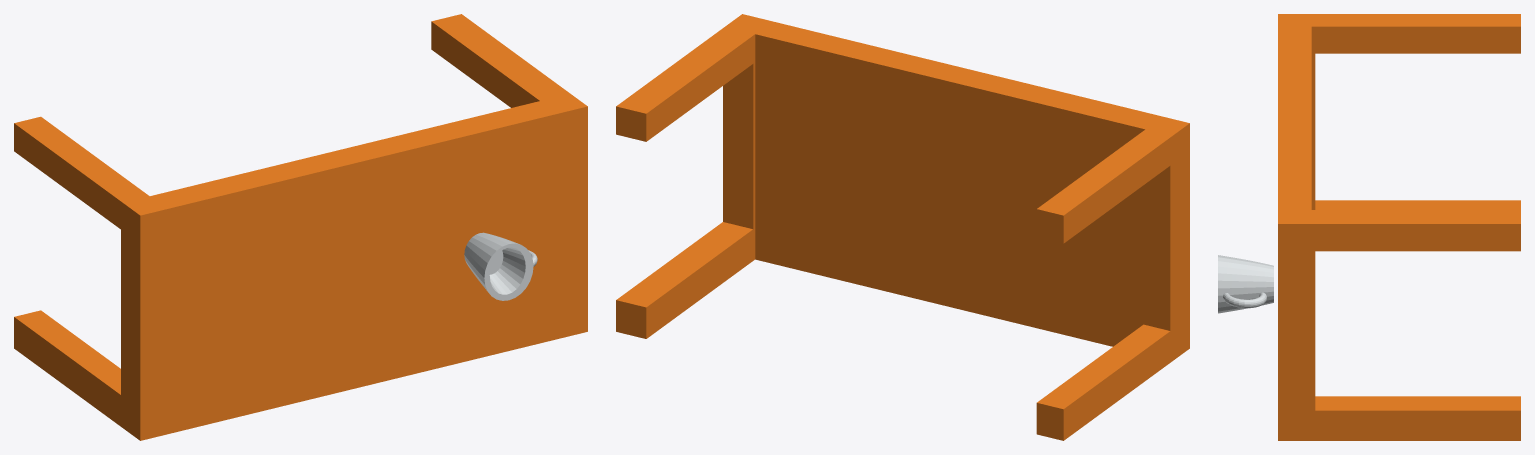
The model's file is tinker.obj.
3 renders of one model, left to right at view 1: azimuth 30°, elevation 25°; view 2: azimuth 150°, elevation 25°; view 3: azimuth 270°, elevation 25°, orthographic. The views are drawn at different scales.
Visible parts, largest first — view 1: group_0_16089887, group_0_14541540; view 2: group_0_16089887; view 3: group_0_16089887, group_0_14541540.
Part boxes in pixels (x1=…): group_0_16089887: x1=14, y1=14, x2=587, y2=440; group_0_14541540: x1=464, y1=232, x2=537, y2=300; group_0_16089887: x1=616, y1=14, x2=1189, y2=440; group_0_16089887: x1=1278, y1=14, x2=1520, y2=440; group_0_14541540: x1=1218, y1=255, x2=1273, y2=313.
Size of the model in its own units: 133 by 64 by 81.
